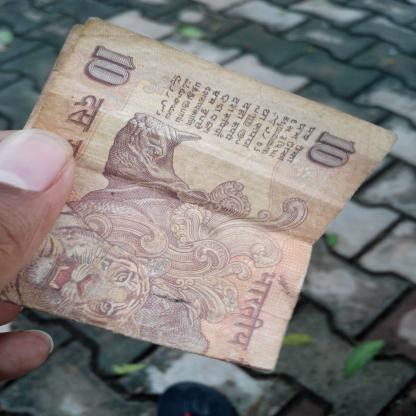Old10Back: (0, 15, 399, 374)
